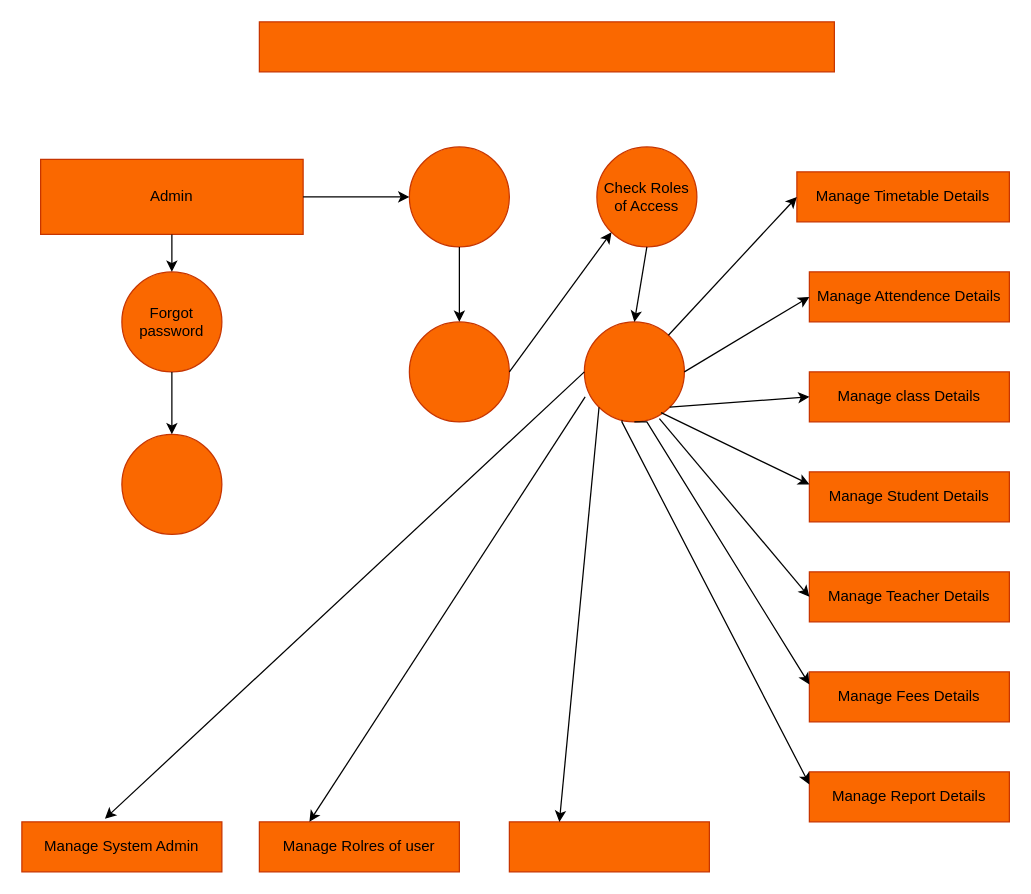
The diagram is 1031 pixels wide and 894 high, and some of its shapes have lost their labels. The shapes that lost their labels are listed below. From the top down, each one's centre as x and y in pixels, then its label:
At point 546,46: "student information system".
At point 458,196: "Login to system".
At point 458,371: "Check credentials".
At point 633,371: "Manage modules".
At point 171,483: "Send email to user".
